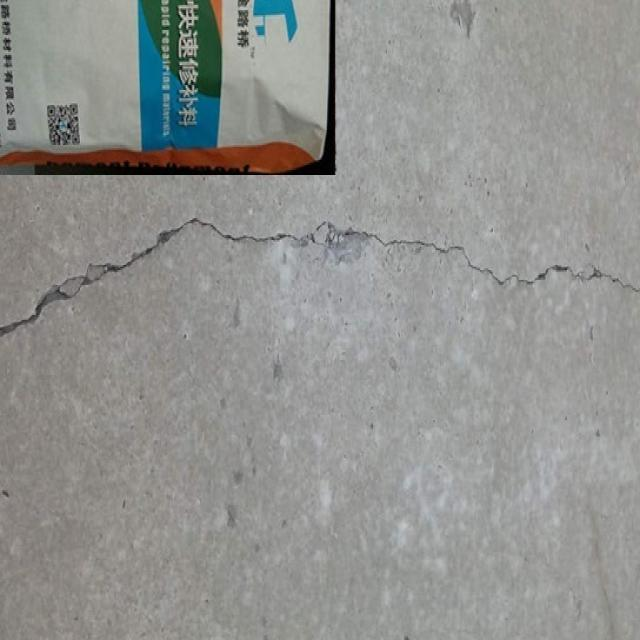Transverse: (0, 197, 640, 354)
